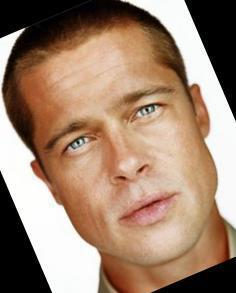Sober: (27, 50, 208, 253)
